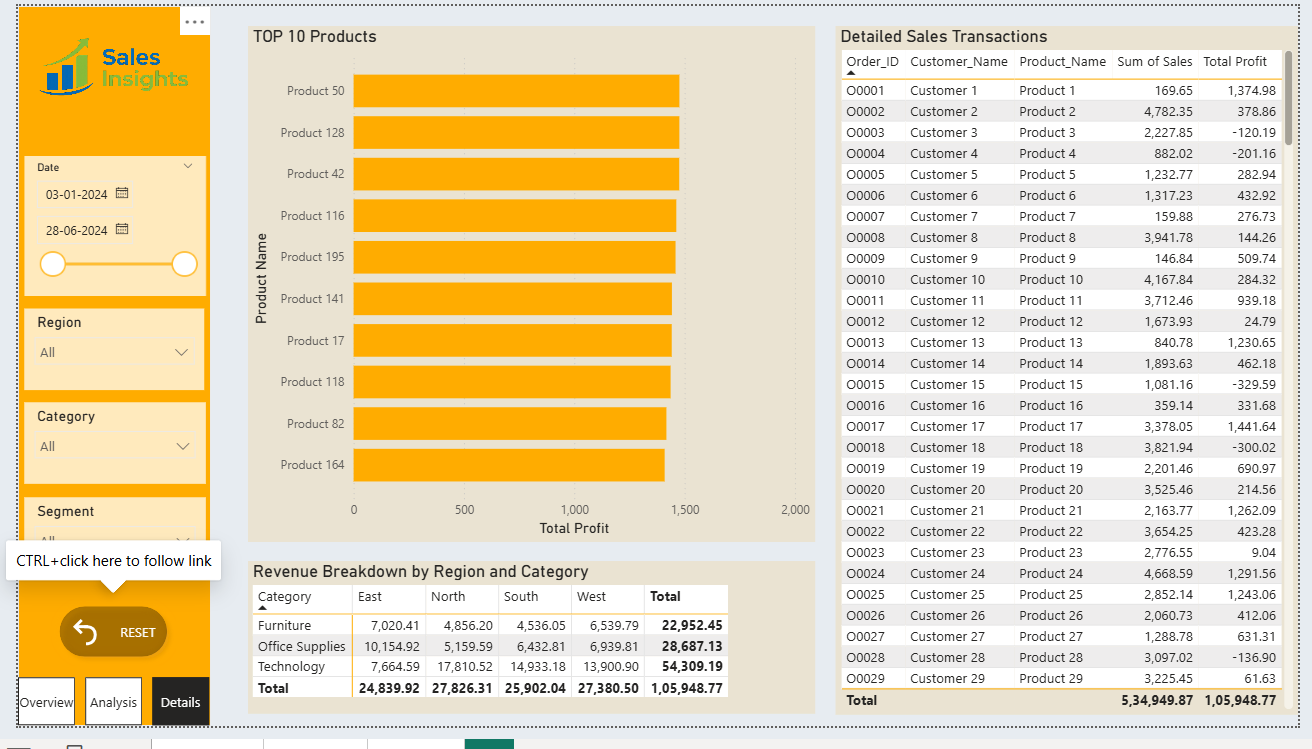

Layout of this report page (visuals, bound fields, positions):
{"tool":"powerbi","page":{"name":"Details","canvas":[1280,720],"ordinal":2},"visuals":[{"type":"pivotTable","title":"Revenue Breakdown by Region and Category","fields":{"Rows":["Sales_Data.Category"],"Values":["Sales_Data.Total Profit"],"Columns":["Sales_Data.Region"]},"box":[229.9,555.2,567.4,152.9],"z":0},{"type":"tableEx","title":"Detailed Sales Transactions","fields":{"Values":["Sales_Data.Order_ID","Sales_Data.Customer_Name","Sales_Data.Product_Name","Sum(Sales_Data.Sales)","Sales_Data.Total Profit"]},"box":[817.1,20,462.9,688.6],"z":1000},{"type":"barChart","title":"TOP 10 Products","fields":{"Category":["Sales_Data.Product_Name"],"Y":["Sales_Data.Total Profit"]},"box":[230,20,567.1,515.7],"z":2000},{"type":"shape","box":[0,0,192.9,720],"z":3000},{"type":"pageNavigator","box":[0,671.8,192.9,48.2],"z":4000},{"type":"image","box":[10,20,173.3,78.3],"z":5000},{"type":"slicer","fields":{"Values":["Sales_Data.Order_Date"]},"box":[6,150,181.3,140],"z":6000},{"type":"slicer","fields":{"Values":["Sales_Data.Region"]},"box":[6,302,180,81.3],"z":7000},{"type":"slicer","fields":{"Values":["Sales_Data.Category","Sales_Data.Sub_Category"]},"box":[6,396.7,181.3,81.3],"z":8000},{"type":"slicer","fields":{"Values":["Sales_Data.Segment"]},"box":[6,490.7,181.3,82.7],"z":9000},{"type":"actionButton","box":[32.9,591.4,125.7,68.6],"z":10000}]}

Visuals, with their boxes in screenshot pixels (x1, y1, x2, y2), scaled from the page's 1280x720 canvas onto the 1312x749 screenshot:
"Revenue Breakdown by Region and Category" pivotTable: (left=236, top=578, right=817, bottom=737)
"Detailed Sales Transactions" tableEx: (left=838, top=21, right=1311, bottom=737)
"TOP 10 Products" barChart: (left=236, top=21, right=817, bottom=557)
shape: (left=0, top=0, right=198, bottom=748)
pageNavigator: (left=0, top=699, right=198, bottom=748)
image: (left=10, top=21, right=188, bottom=102)
slicer - Sales_Data.Order_Date: (left=6, top=156, right=192, bottom=302)
slicer - Sales_Data.Region: (left=6, top=314, right=191, bottom=399)
slicer - Sales_Data.Category x Sales_Data.Sub_Category: (left=6, top=413, right=192, bottom=497)
slicer - Sales_Data.Segment: (left=6, top=510, right=192, bottom=596)
actionButton: (left=34, top=615, right=163, bottom=687)
